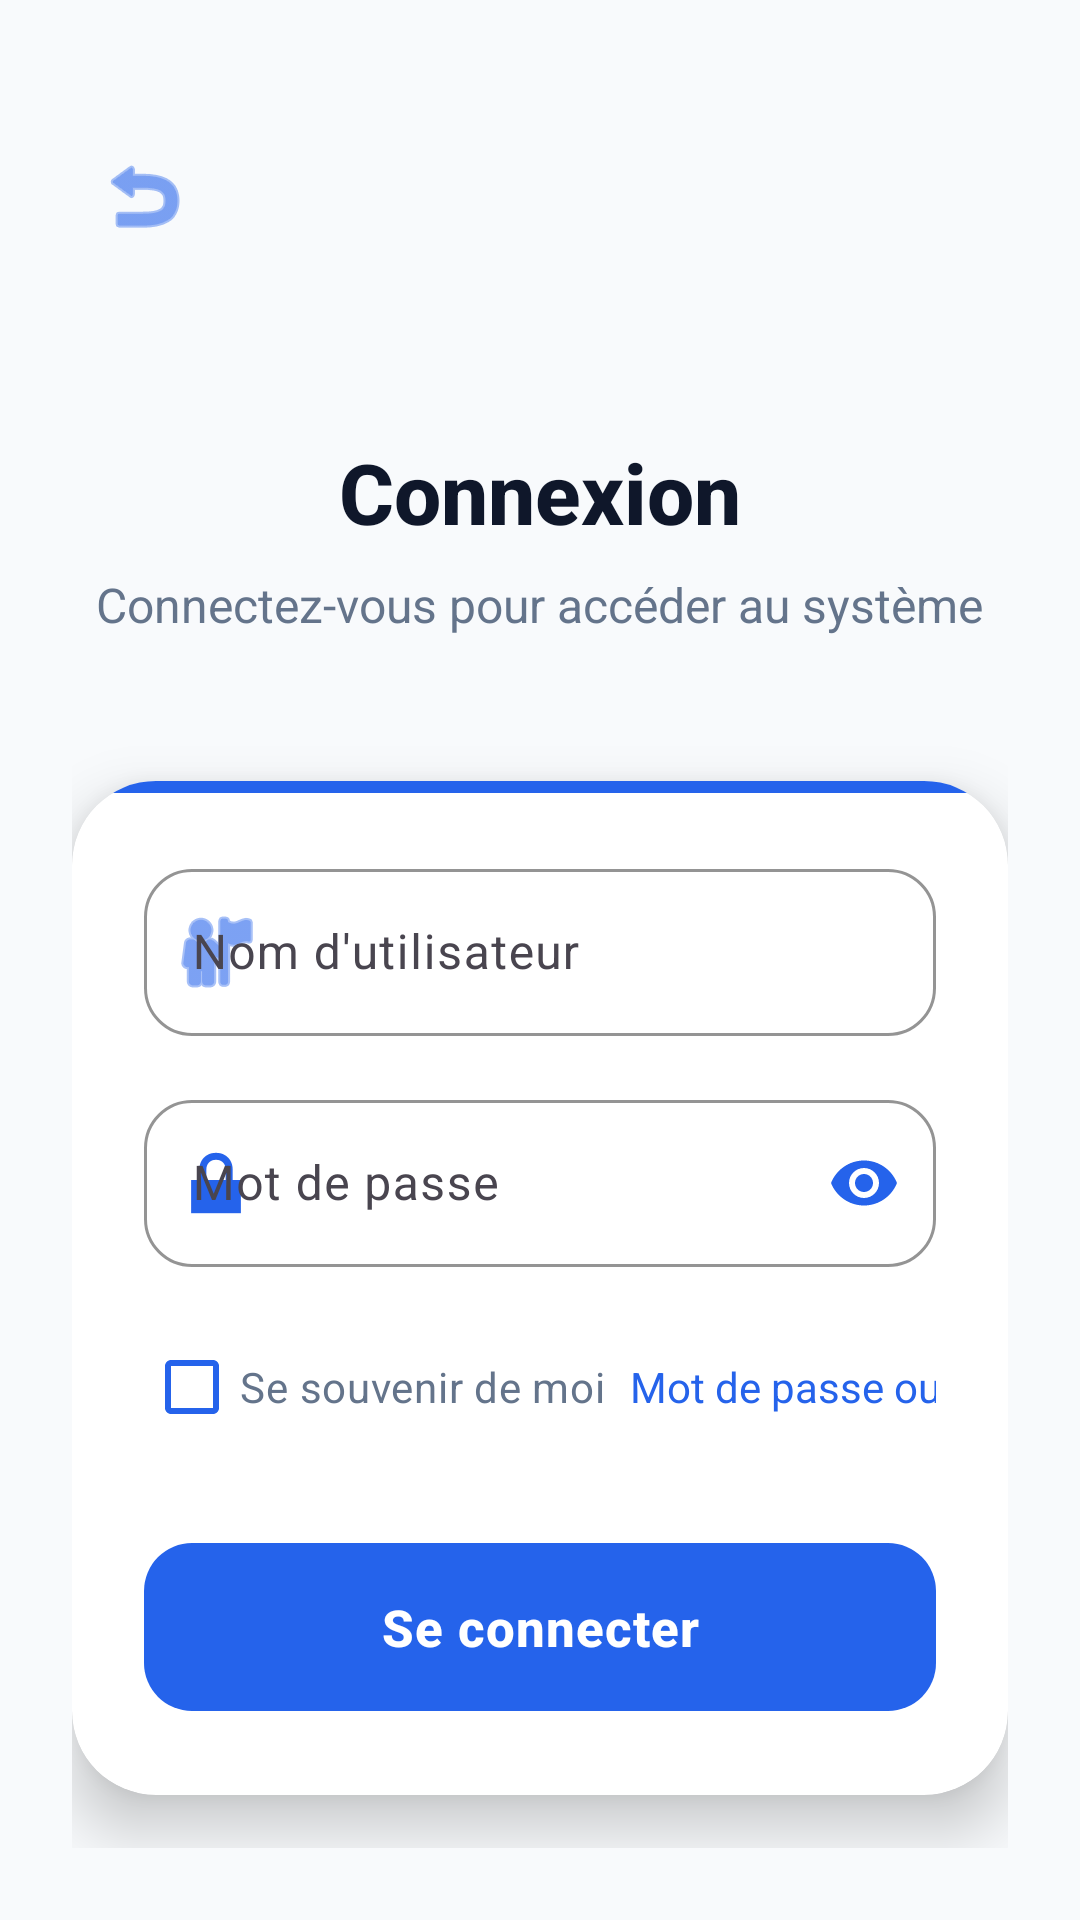

Where icons sit on this 1080 × 1920 app screen, as bbox=[x1, y1, x2, y2]:
Retour: bbox=[111, 165, 180, 228]
